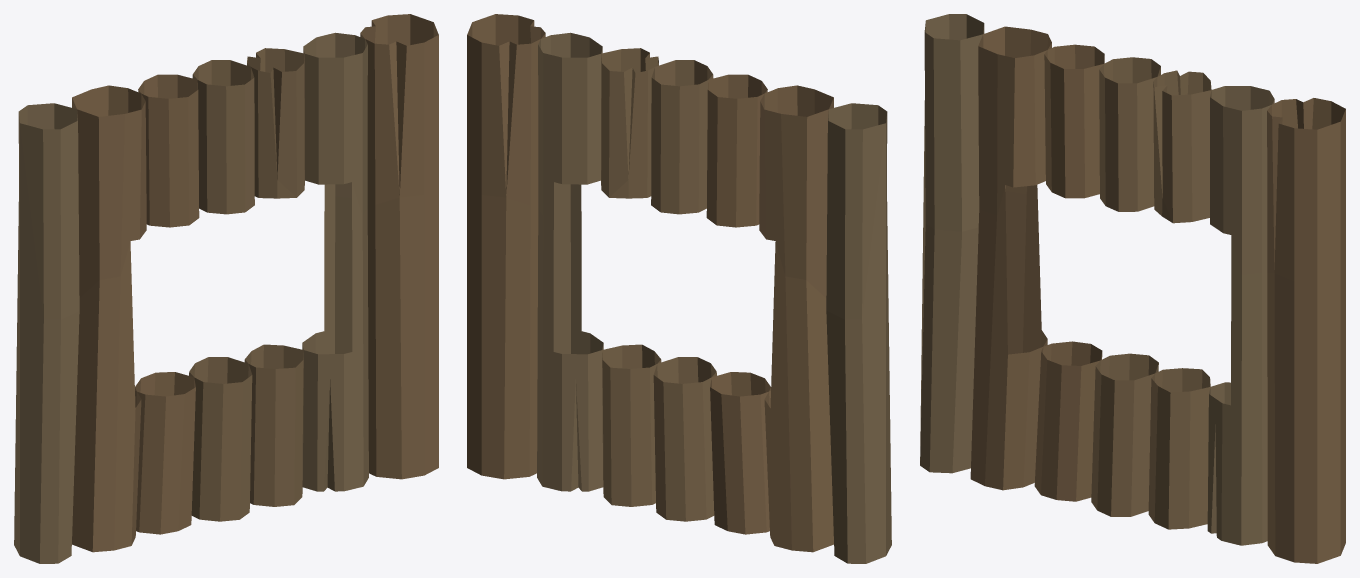
The model's file is rpgpp_ag_wall_02_3x3_window_a.fbx.
3 renders of one model, left to right at view 1: azimuth 30°, elevation 25°; view 2: azimuth 150°, elevation 25°; view 3: azimuth 330°, elevation 25°, orthographic.
Visible parts, largest first — view 1: rpgpp_ag_wall_02_3x3_window_a; view 2: rpgpp_ag_wall_02_3x3_window_a; view 3: rpgpp_ag_wall_02_3x3_window_a.
Boxes of the visible parts, x1,y1,x2,y2 form: rpgpp_ag_wall_02_3x3_window_a: [14, 14, 438, 563]; rpgpp_ag_wall_02_3x3_window_a: [467, 14, 891, 563]; rpgpp_ag_wall_02_3x3_window_a: [920, 14, 1345, 563].
Size of the model in its own units: 3 by 3 by 0.4626.
